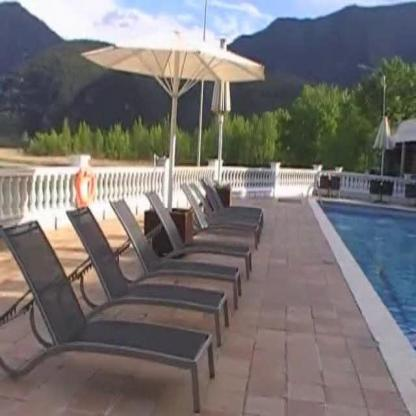other: (30, 165, 106, 205)
